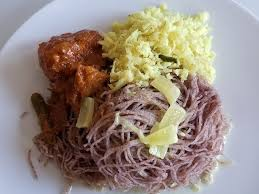idyappa: (73, 60, 228, 191)
